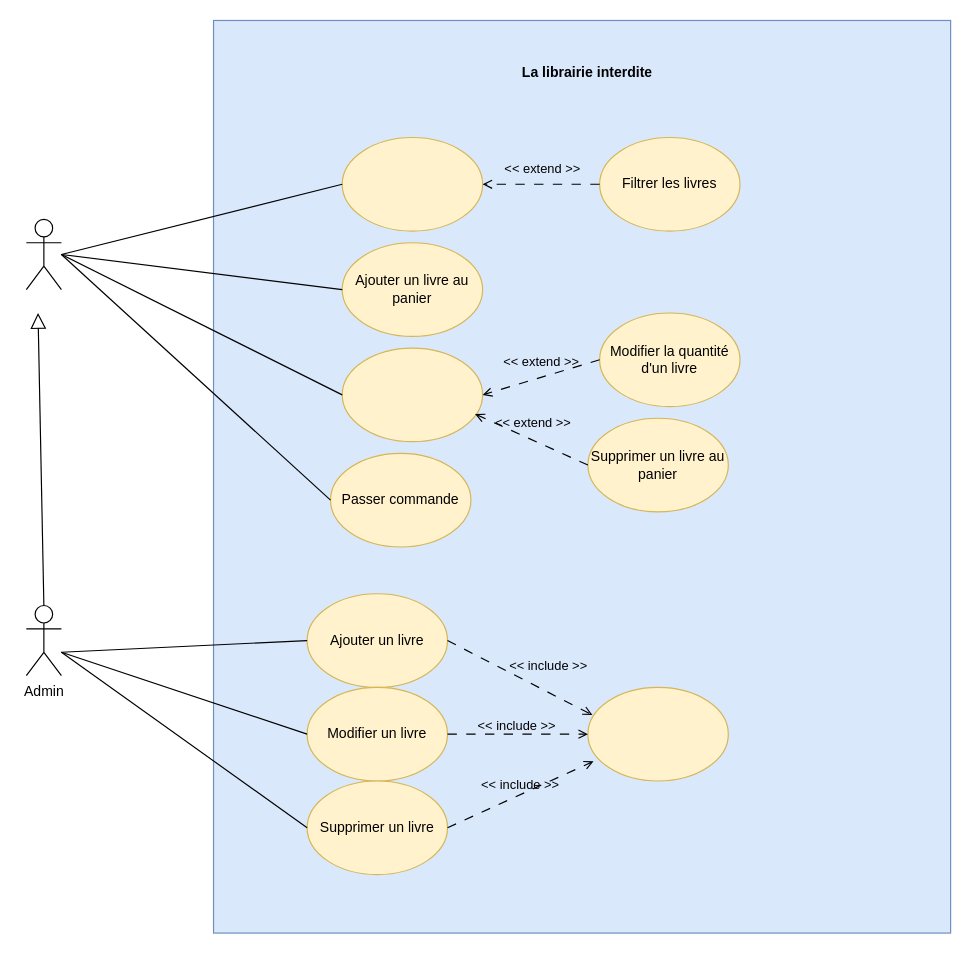
Image size: 971x954. Some labels were removed from this diagram. The centre of each missing label's shape, as x and y in pixels:
"Consulter les livres" belongs at pixel 412 183.
"Gérer le panier" belongs at pixel 412 394.
"Lecteur" belongs at pixel 43 254.
"S'authentifier" belongs at pixel 657 733.
